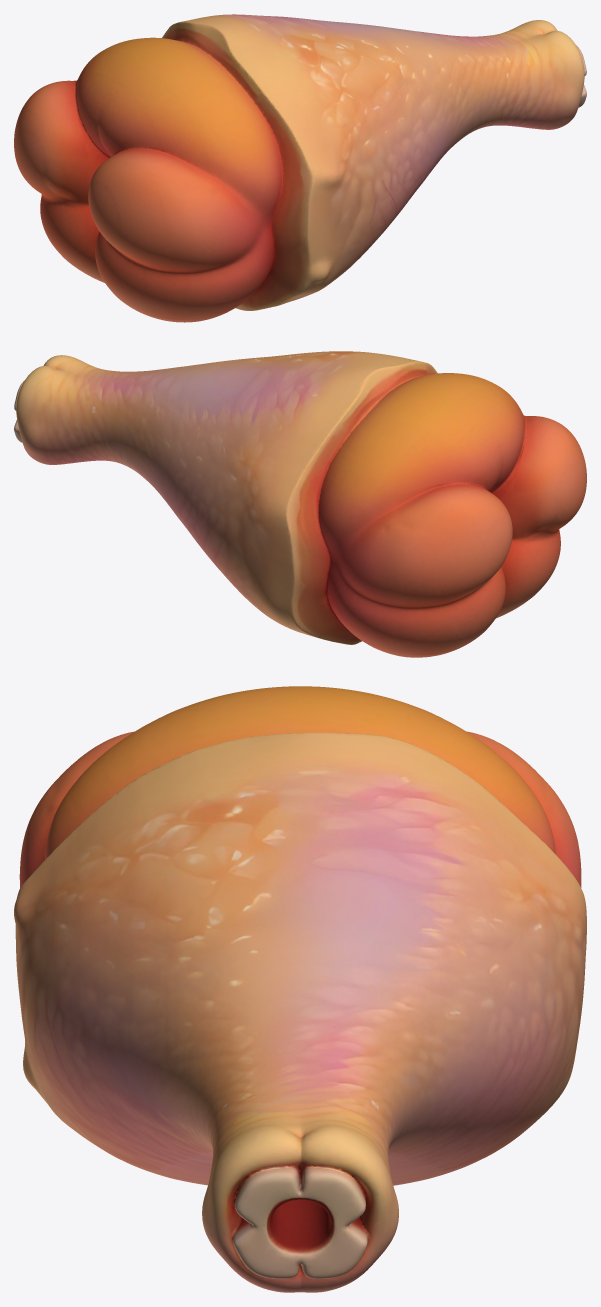
Rendered from tripo_convert_45171b8f-062f-46d5-aae3-f7c5f655a61b.fbx.
3 views of the same model, one above another, from view 1: azimuth 30°, elevation 25°; view 2: azimuth 150°, elevation 25°; view 3: azimuth 270°, elevation 25° (orthographic). The views are drawn at different scales.
Parts seen in each view (by area): view 1: tripo_node_45171b8f; view 2: tripo_node_45171b8f; view 3: tripo_node_45171b8f.
Part boxes in pixels (bbox=[...]): tripo_node_45171b8f: bbox=[14, 14, 586, 322]; tripo_node_45171b8f: bbox=[14, 351, 586, 657]; tripo_node_45171b8f: bbox=[14, 686, 586, 1292].
Bounding box in the file's own units: 1 × 0.4894 × 0.5678.
